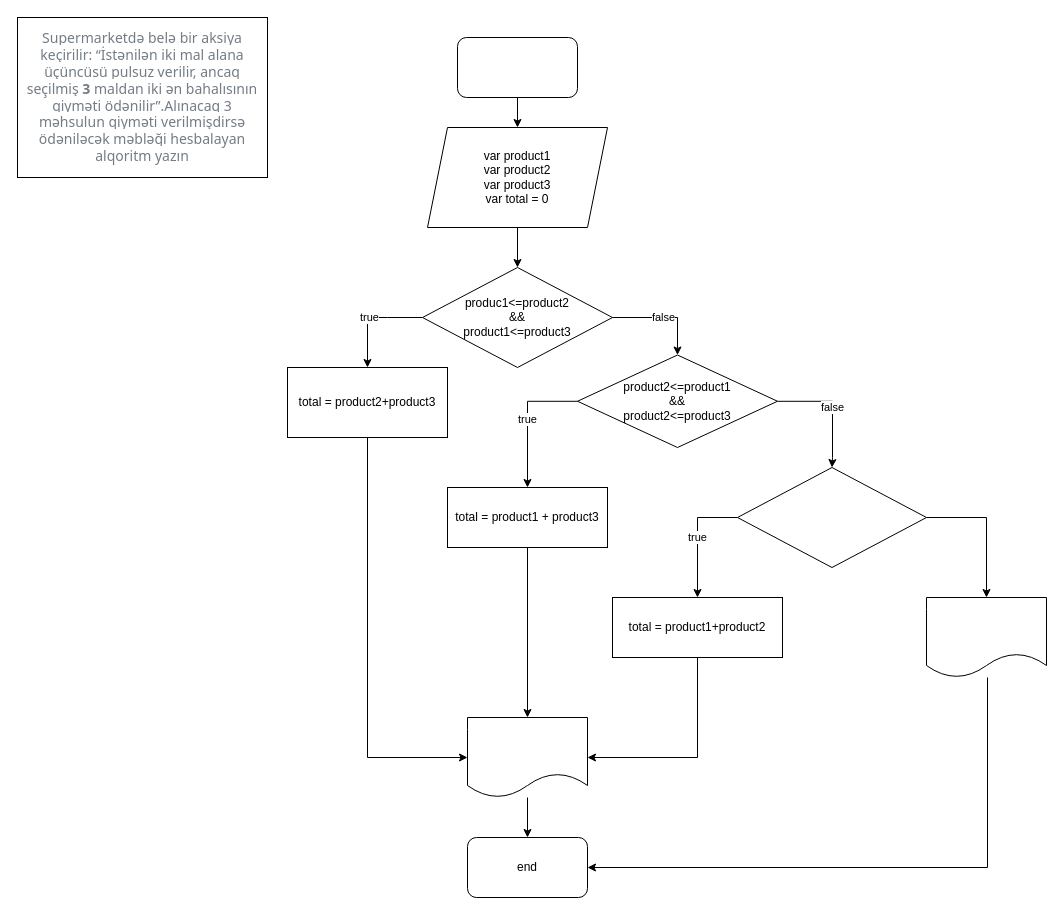
Image size: 1064x915. Some labels were removed from this diagram. Here are the shapes that lost their labels. From the top down, the centre of each, then its label:
At (517,67): "start".
At (831,517): "product3<=product1 && product3<=product2".
At (986,637): "duzgun daxil edilmeyib".
At (527,757): "total".
